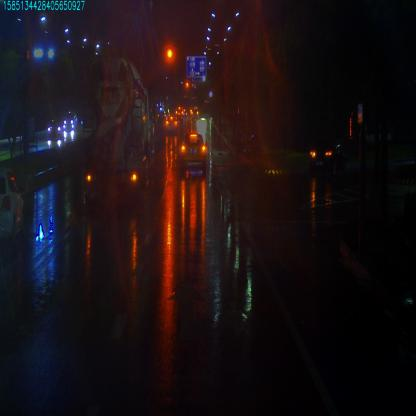traffic-light: (166, 42, 173, 60)
